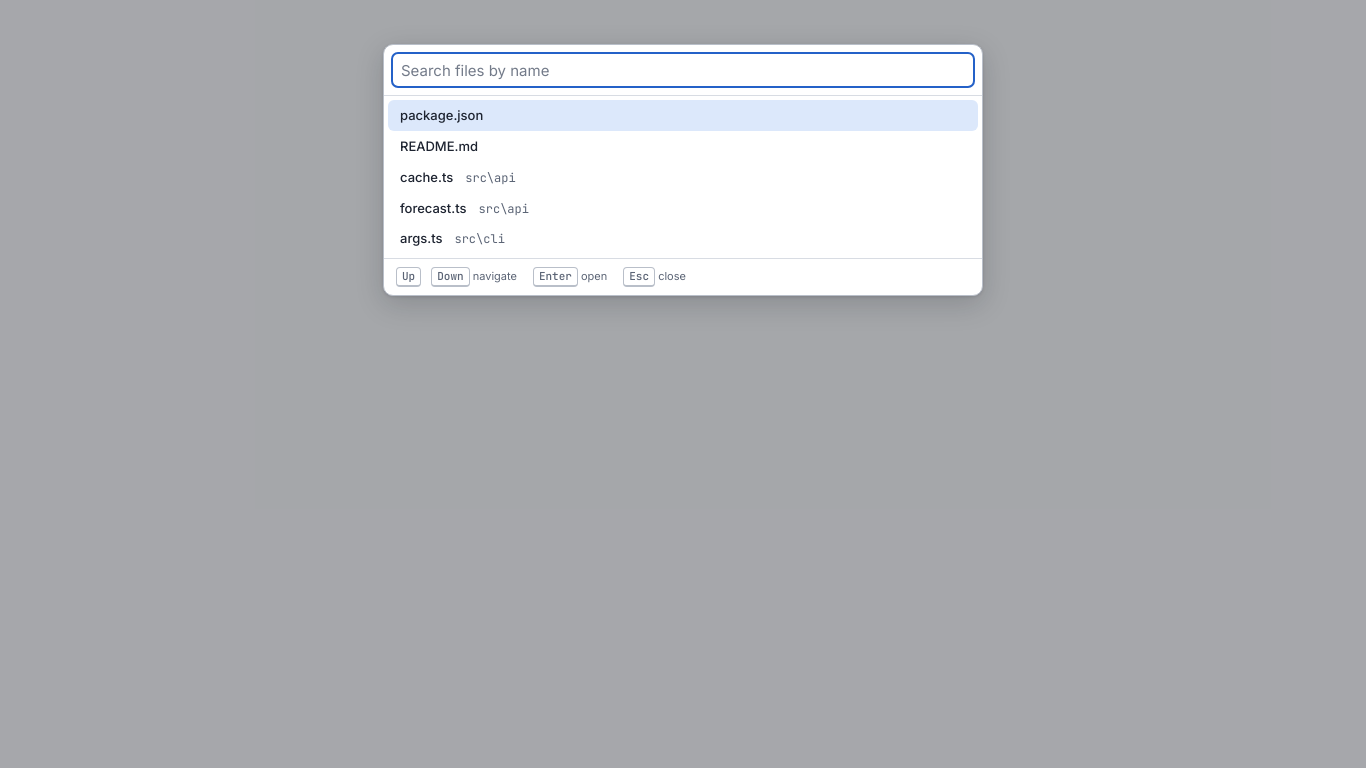
Test: QuickOpen › shows an empty state for no matches
Type "zzz" into the dropdown with test id "quick-open-input" at (683, 70), box [392,53,974,87]
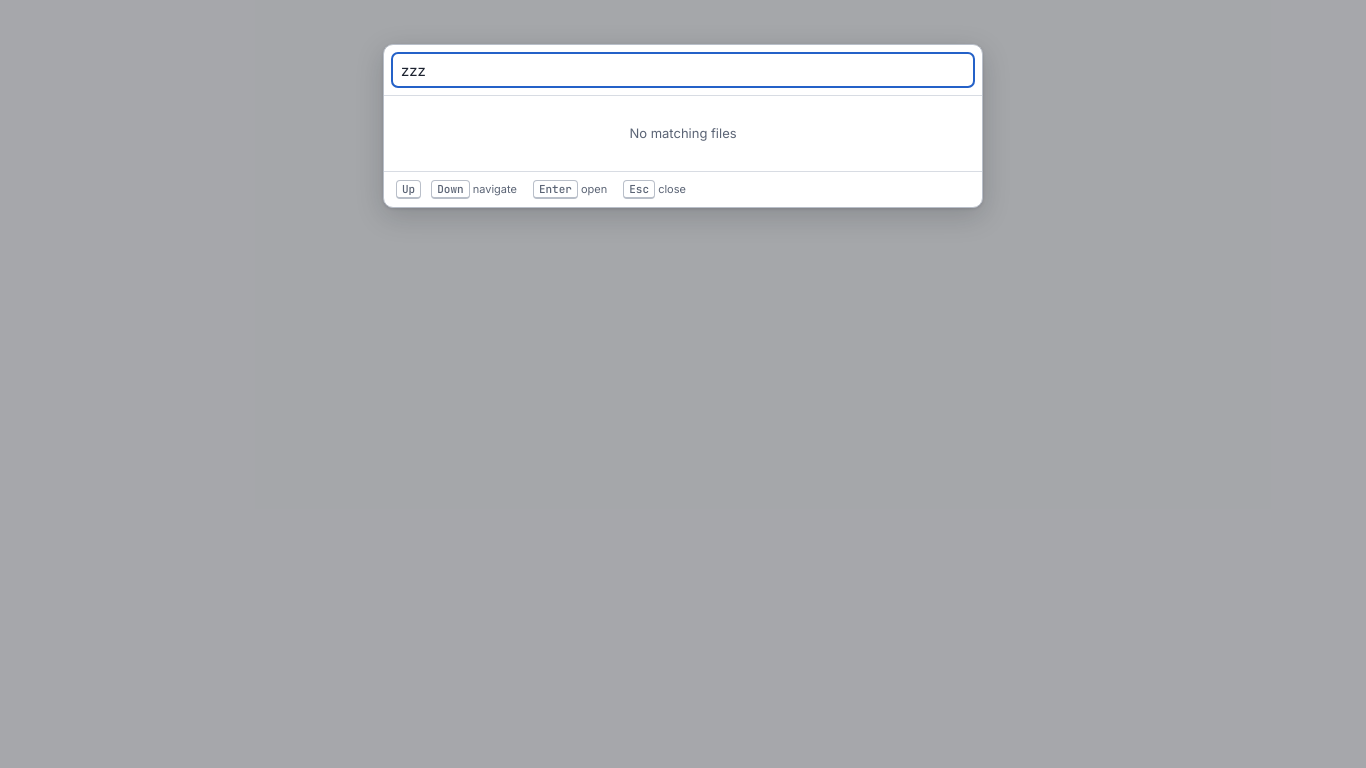
Expected: the text "No matching files" is shown, [629,125,737,141]
